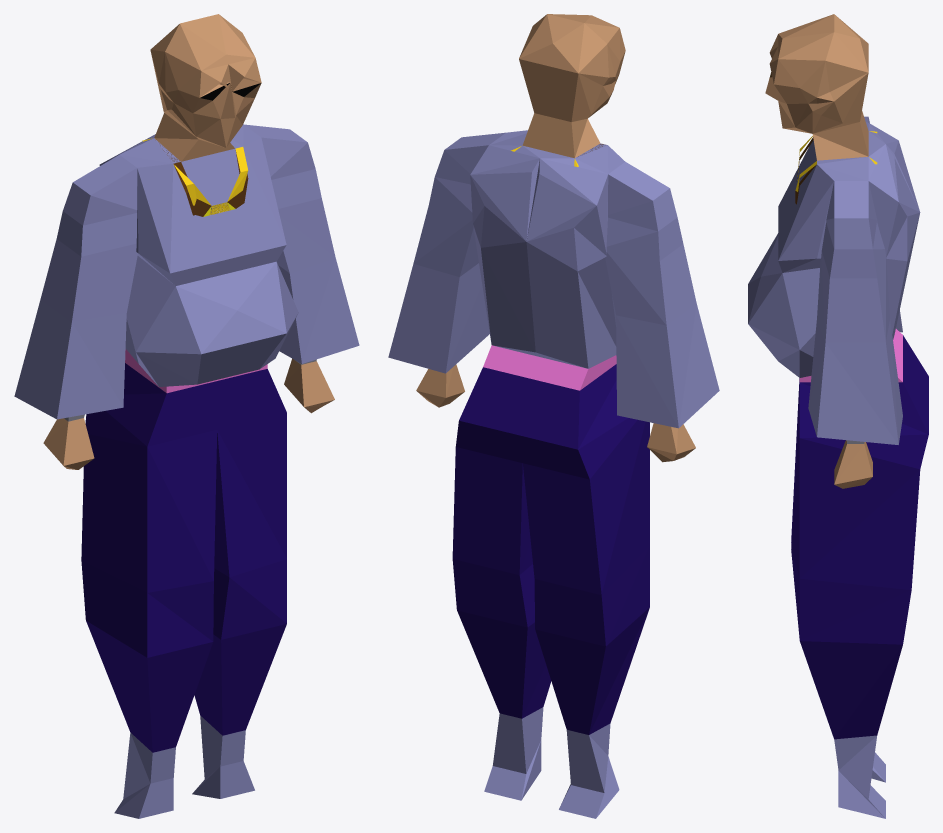
The model's file is amulet-shops.gltf.
3 views of the same model, side by side, from view 1: azimuth 30°, elevation 25°; view 2: azimuth 150°, elevation 25°; view 3: azimuth 270°, elevation 25° (orthographic). The views are drawn at different scales.
Bounding box in the file's own units: 78 × 197 × 42.
Materials: 1 (1 with a texture image).
